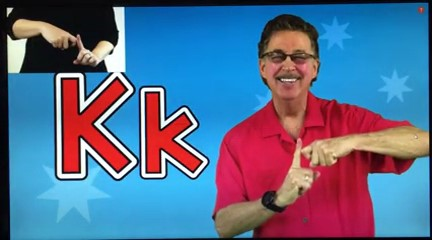K: (278, 125, 359, 209)
